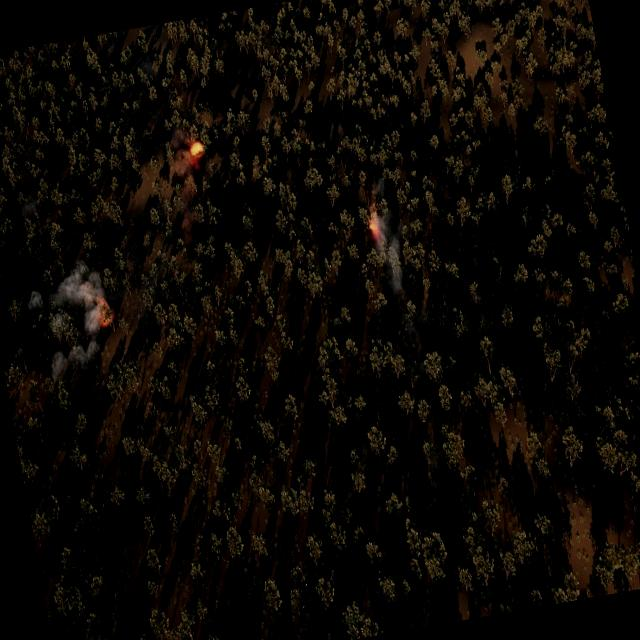fire: (96, 299, 116, 328), (367, 214, 382, 238), (186, 139, 202, 156)
smoke: (20, 260, 122, 382), (364, 178, 412, 298), (19, 190, 42, 218)
